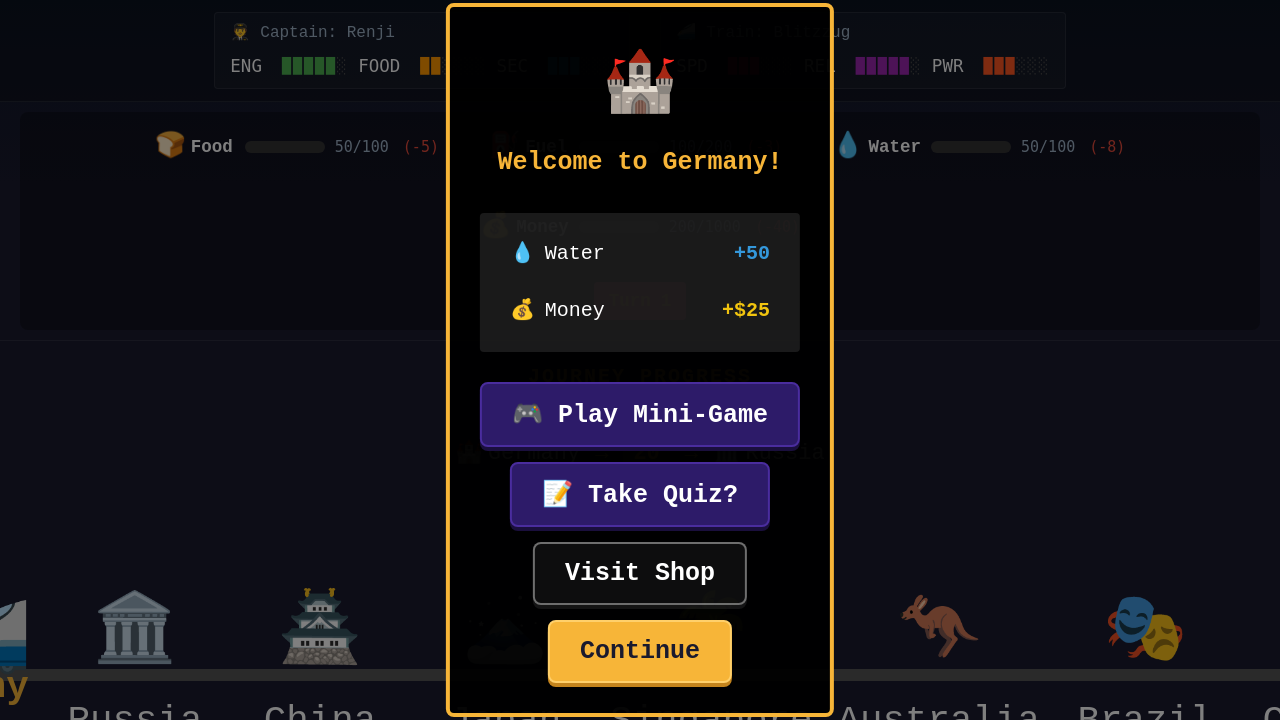
Test case: DashboardScreen › station modal integration › dismisses station modal when clicking overlay
The image size is (1280, 720).
Expected: the element with test id "station-modal" is shown, [446,3,834,717]
// Click overlay to dismiss
Step 1. Click the element with test id "station-modal-overlay" → (77, 360), box [0,0,1279,719]
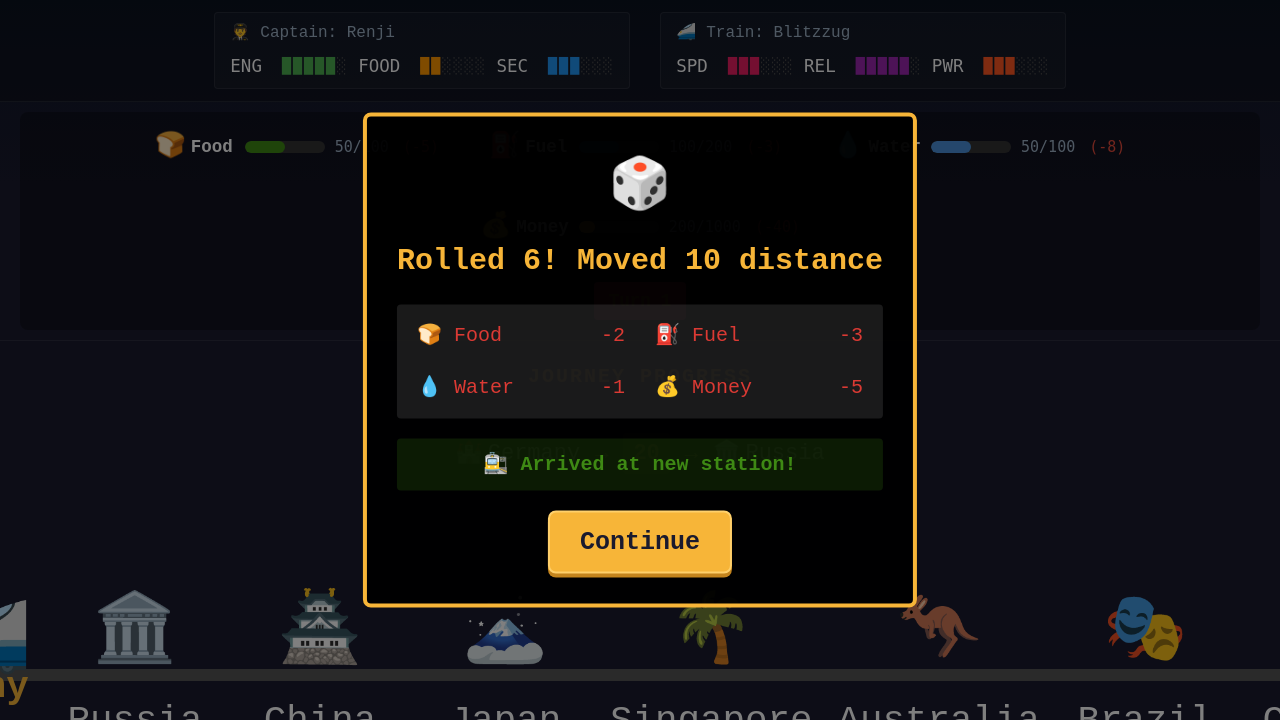
Now the element with test id "station-modal" is gone
Now the element with test id "turn-result-display" is shown, box [363,112,917,608]
